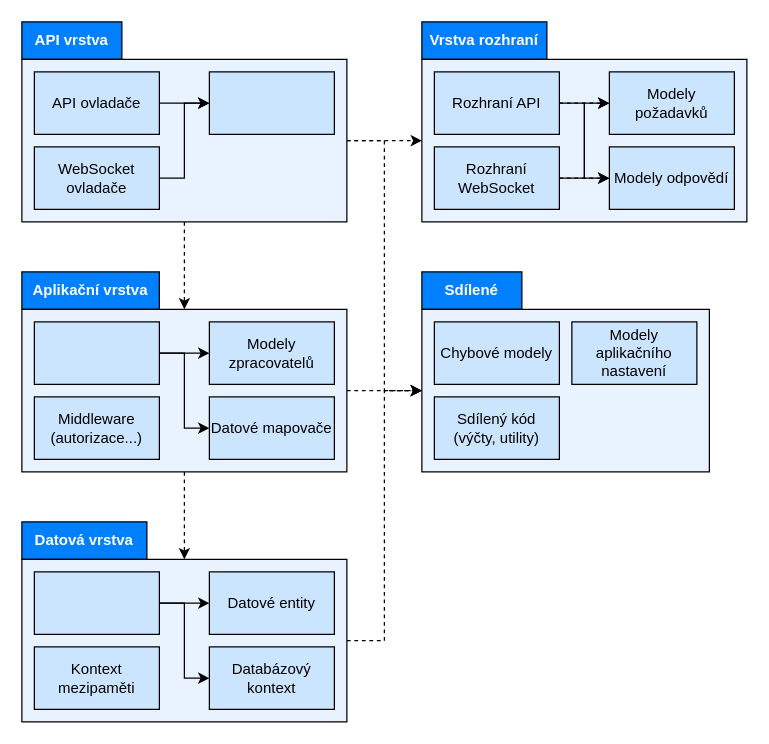
The diagram is 769 pixels wide and 744 high, and some of its shapes have lost their labels. Here are the shapes that lost their labels. From the top down, the centre of each, then its label:
At point 271,102: "Validátory vstupních dat".
At point 96,352: "Zpracovatelé požadavků".
At point 96,602: "Repozitáře".
